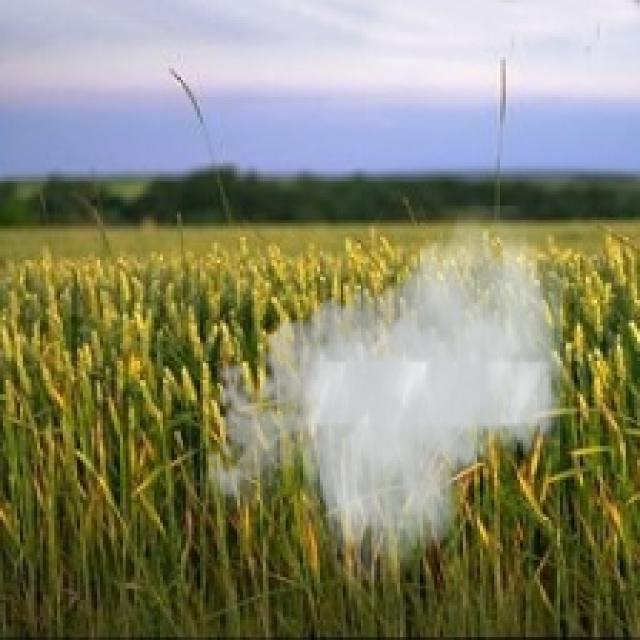Smoke: (194, 205, 563, 580)
